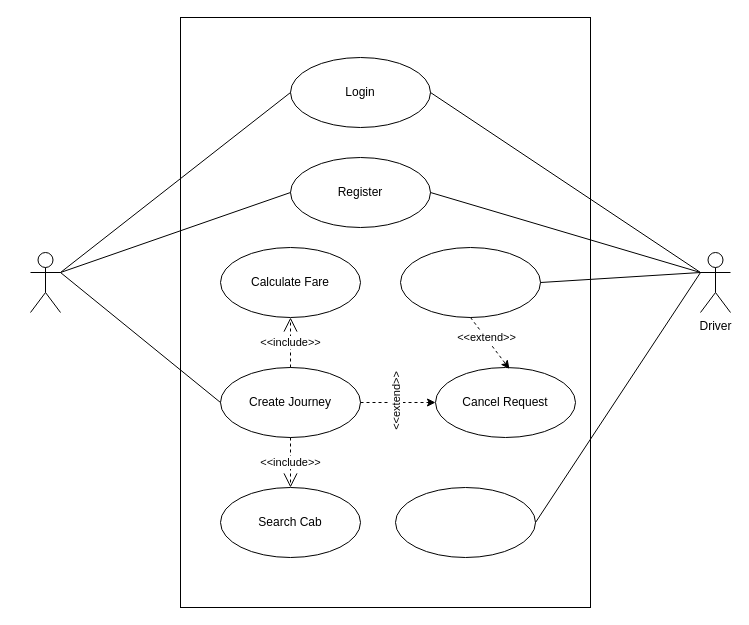
Image size: 749x625. Some labels were removed from this diagram. Each missing label, with the centre of its shape:
"Accept or Reject Request" goes at pixel 470 282.
"Passenger" goes at pixel 45 282.
"Toggle Availability" goes at pixel 465 522.
